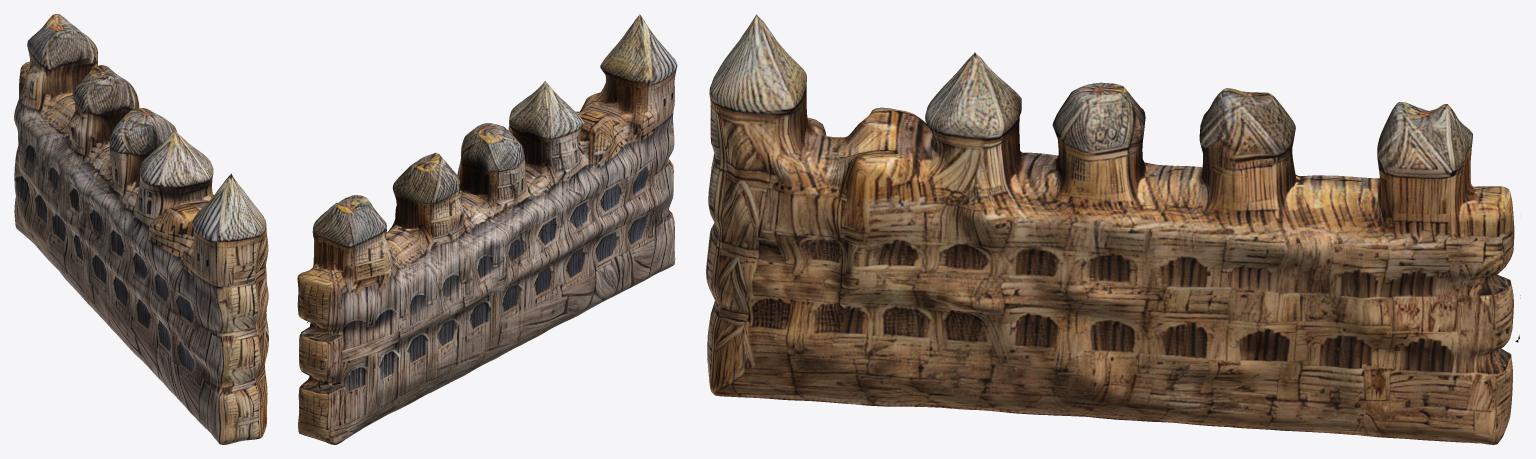
The model's file is wall_model.fbx.
3 views of the same model, side by side, from view 1: azimuth 30°, elevation 25°; view 2: azimuth 150°, elevation 25°; view 3: azimuth 270°, elevation 25° (orthographic). The views are drawn at different scales.
Parts seen in each view (by area): view 1: Mesh_0; view 2: Mesh_0; view 3: Mesh_0.
Part boxes in pixels (x1,y1,x2,y2): Mesh_0: (14,14,268,444); Mesh_0: (297,14,677,444); Mesh_0: (706,14,1520,444).
Size of the model in its own units: 30.42 by 61.08 by 120.
1 material, 1 textured.
